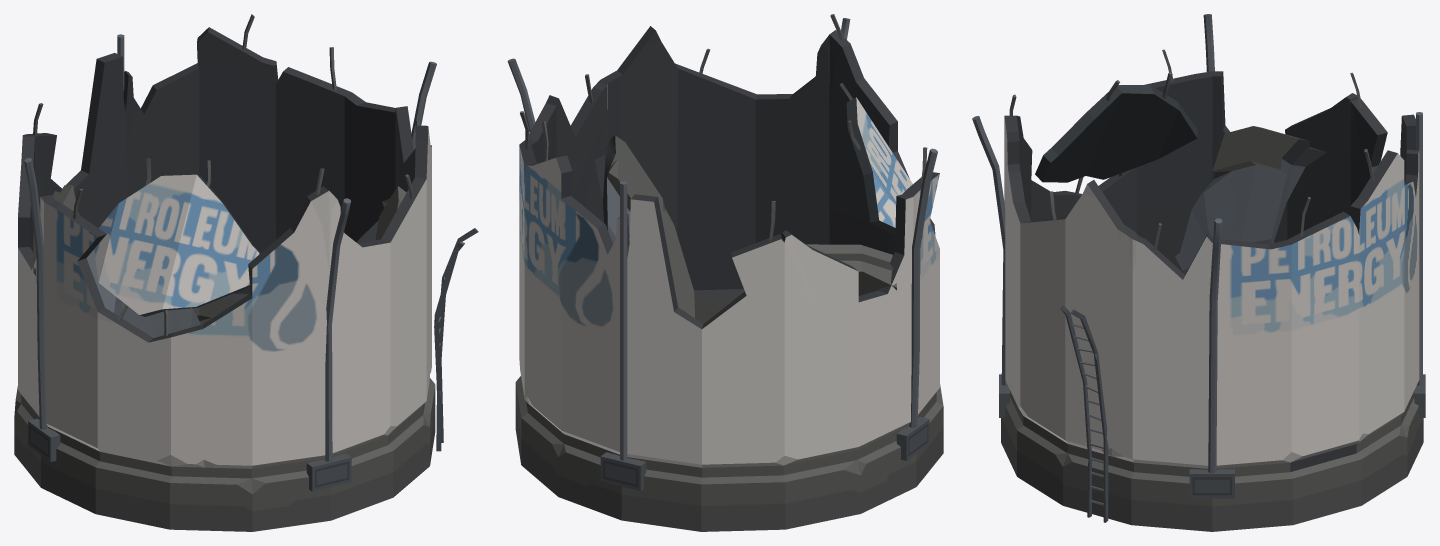
Rendered from SM_Bld_GasTower_Destroyed_02.glb.
3 views of the same model, side by side, from view 1: azimuth 30°, elevation 25°; view 2: azimuth 150°, elevation 25°; view 3: azimuth 270°, elevation 25° (orthographic). The views are drawn at different scales.
Parts seen in each view (by area): view 1: SM_Bld_GasTower_Destroyed_02; view 2: SM_Bld_GasTower_Destroyed_02; view 3: SM_Bld_GasTower_Destroyed_02.
Part boxes in pixels (x1,y1,x2,y2): SM_Bld_GasTower_Destroyed_02: (14,14,478,531); SM_Bld_GasTower_Destroyed_02: (507,14,943,531); SM_Bld_GasTower_Destroyed_02: (972,14,1425,531).
Size of the model in its own units: 15.34 by 12.26 by 14.53.
2 materials, 2 textured.
